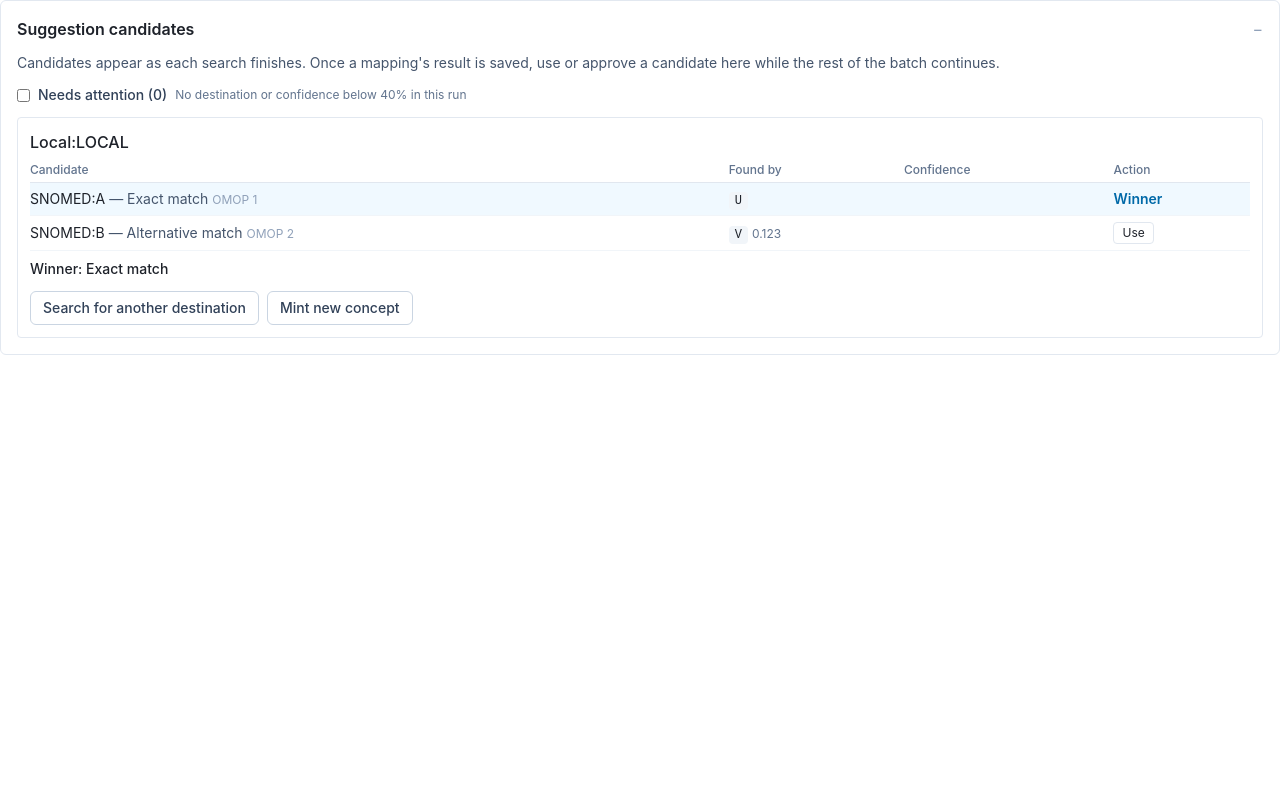
mint new concept from suggest results › opens MintConceptDialog when clicked
Click the button with aria-label "Mint new concept for LOCAL" at (340, 308), box [267,291,413,325]
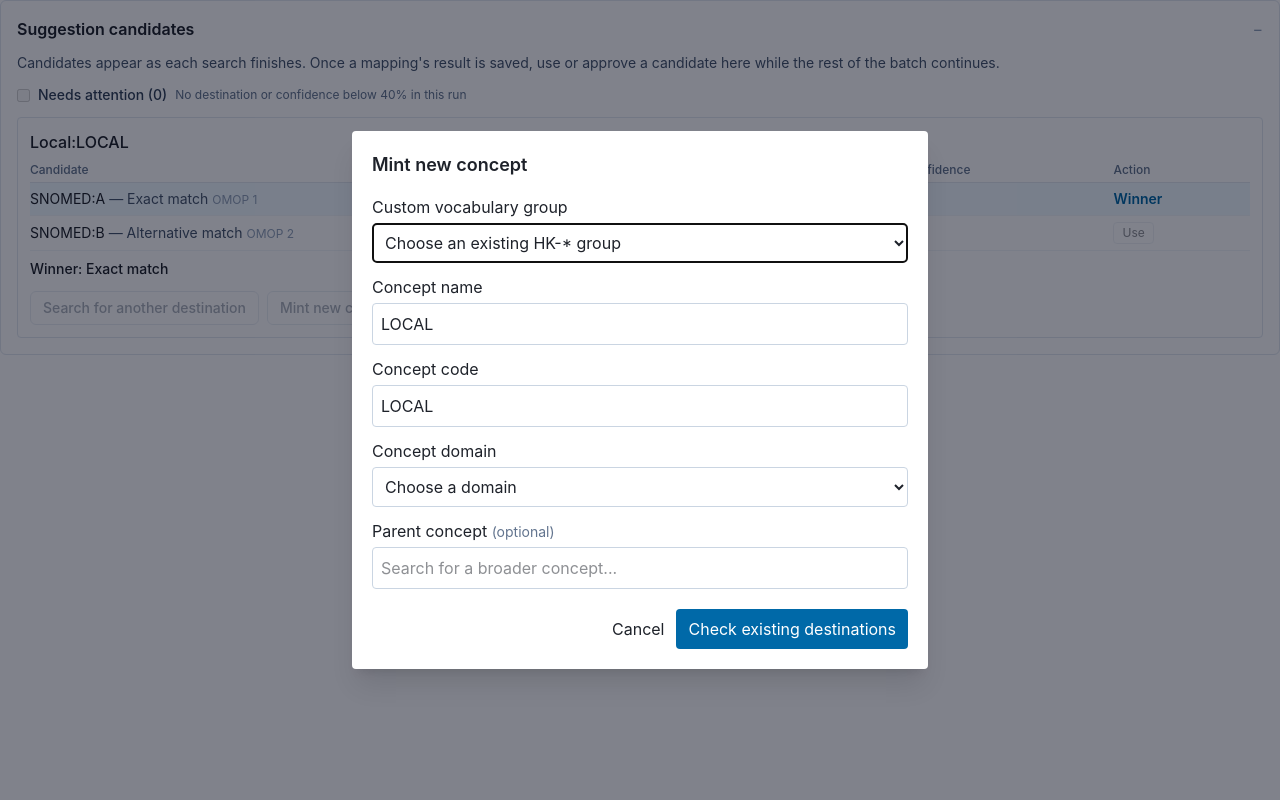
Expected: the dialog "Mint new concept" is shown, [352,131,928,669]
